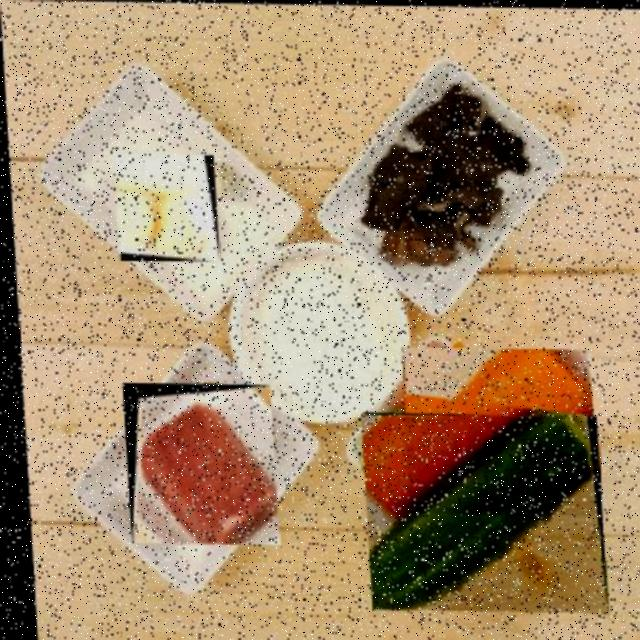Beef: (114, 382, 272, 544)
Carrot: (376, 335, 591, 509)
Cucumber: (354, 410, 600, 612)
Garlic: (110, 152, 216, 260)
